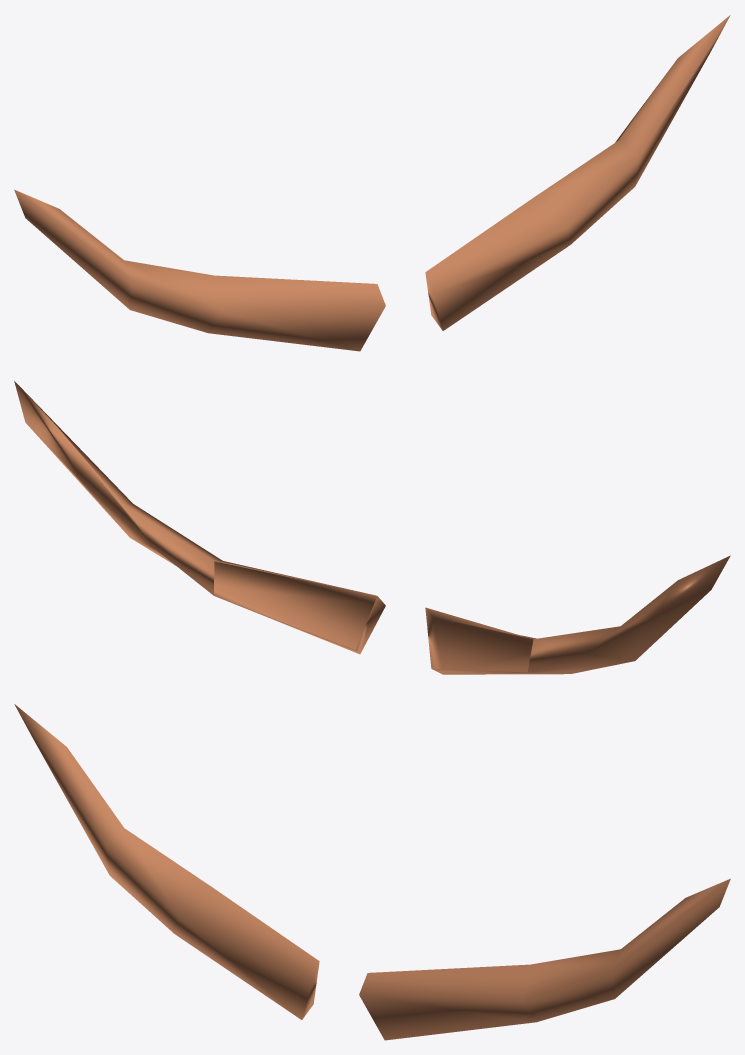
Rendered from Dali.fbx.
3 views of the same model, one above another, from view 1: azimuth 30°, elevation 25°; view 2: azimuth 150°, elevation 25°; view 3: azimuth 330°, elevation 25° (orthographic).
Visible parts, largest first — view 1: 02 Beard - Cabron3; view 2: 02 Beard - Cabron3; view 3: 02 Beard - Cabron3.
Boxes of the visible parts, x1,y1,x2,y2 form: 02 Beard - Cabron3: (14,15,730,351); 02 Beard - Cabron3: (14,380,730,674); 02 Beard - Cabron3: (14,704,730,1040).
Bounding box in the file's own units: 18.33 × 5.33 × 1.94.
